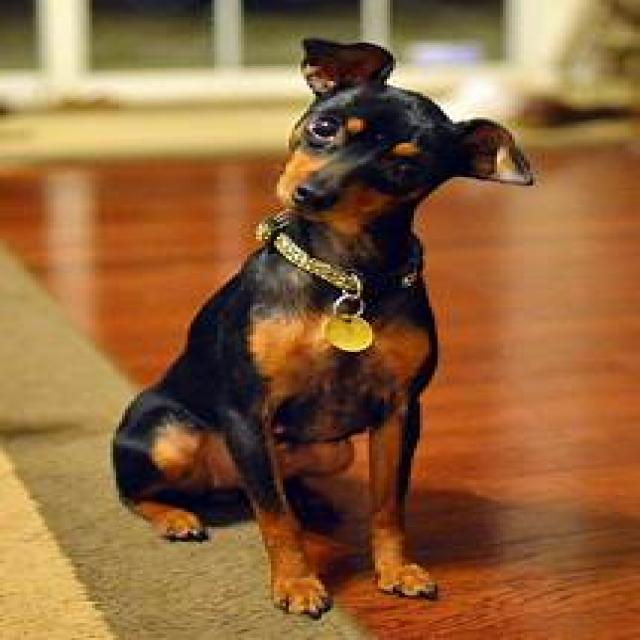dog: (110, 38, 536, 621)
